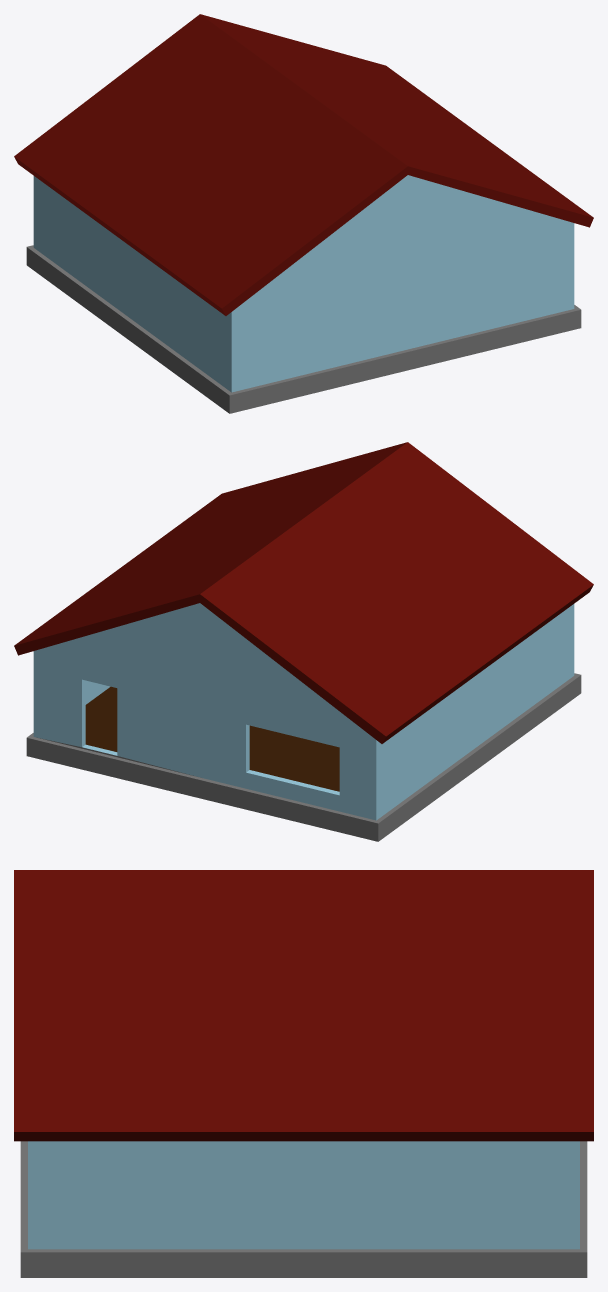
The model's file is House1.fbx.
3 renders of one model, top to bottom at view 1: azimuth 30°, elevation 25°; view 2: azimuth 150°, elevation 25°; view 3: azimuth 270°, elevation 25°, orthographic. The views are drawn at different scales.
Visible parts, largest first — view 1: Cube, Cylinder; view 2: Cube, Cylinder; view 3: Cube, Cylinder.
Part boxes in pixels (left/top/right/bottom): Cube: left=14, top=14, right=593, bottom=315; Cylinder: left=26, top=175, right=581, bottom=413; Cube: left=14, top=442, right=593, bottom=743; Cylinder: left=26, top=603, right=581, bottom=841; Cube: left=14, top=870, right=593, bottom=1141; Cylinder: left=20, top=1141, right=587, bottom=1277.
Size of the model in its own units: 2116 by 1122 by 2047.
